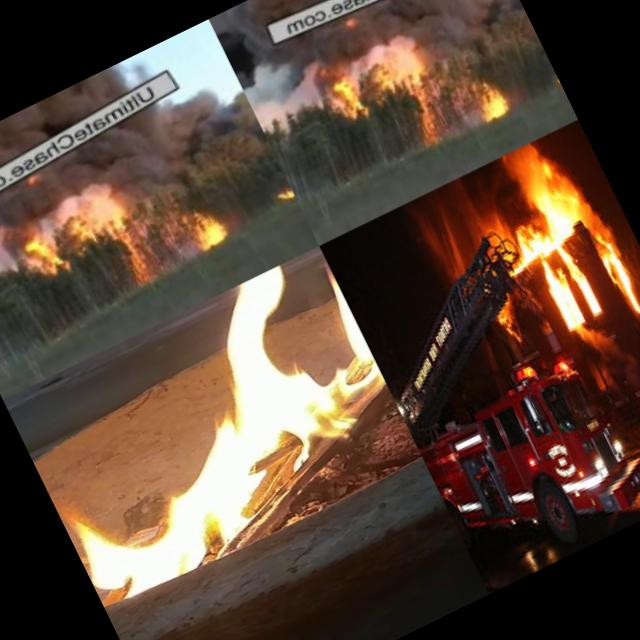fire: (3, 246, 422, 612), (478, 127, 640, 332), (18, 178, 163, 323), (404, 167, 518, 285), (370, 44, 458, 158), (179, 191, 244, 259), (486, 288, 534, 350), (465, 73, 519, 128), (326, 62, 374, 121), (270, 177, 298, 210), (547, 68, 563, 92)
smoke: (96, 77, 263, 208), (338, 0, 516, 71), (235, 36, 340, 138), (414, 0, 529, 69), (0, 188, 54, 311), (567, 304, 625, 373)
